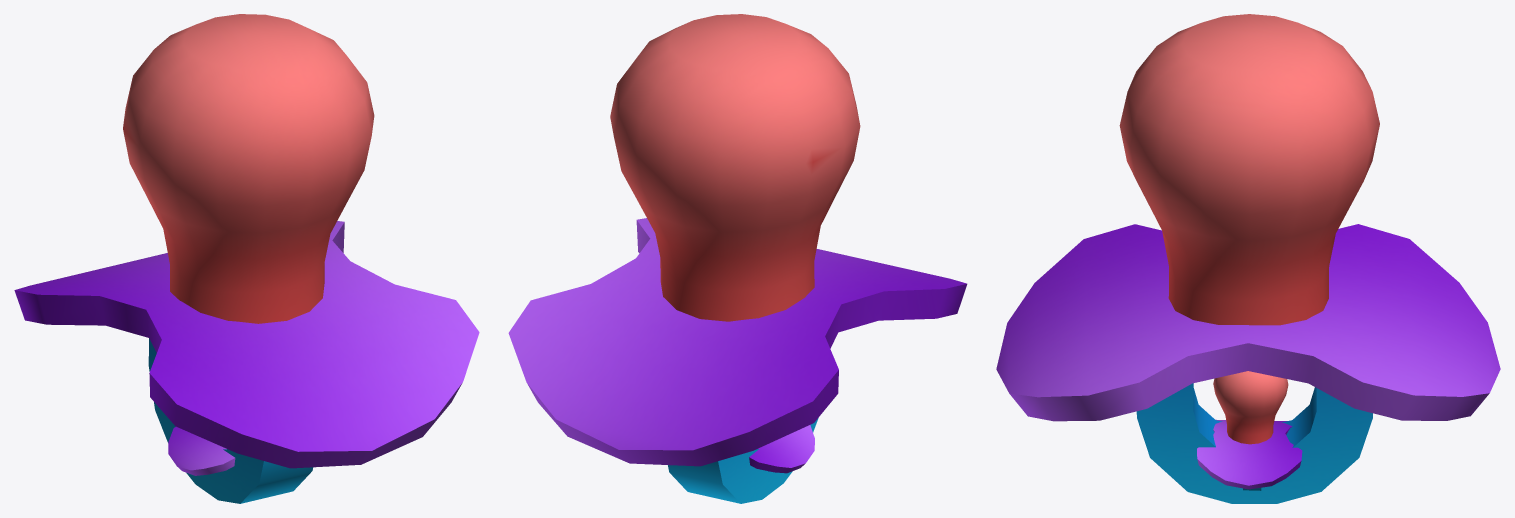
The model's file is baby_boss_cevre_modelleri_emzik1.fbx.
3 renders of one model, left to right at view 1: azimuth 30°, elevation 25°; view 2: azimuth 150°, elevation 25°; view 3: azimuth 270°, elevation 25°, orthographic. The views are drawn at different scales.
Visible parts, largest first — view 1: baby_boss_emzik_ikon, baby_boss_emzik_agiza; view 2: baby_boss_emzik_ikon, baby_boss_emzik_agiza; view 3: baby_boss_emzik_ikon, baby_boss_emzik_agiza.
Boxes of the visible parts, <box> form: baby_boss_emzik_ikon: <box>14,14,479,503</box>; baby_boss_emzik_agiza: <box>168,426,235,475</box>; baby_boss_emzik_ikon: <box>508,14,967,503</box>; baby_boss_emzik_agiza: <box>749,425,814,473</box>; baby_boss_emzik_ikon: <box>996,14,1500,503</box>; baby_boss_emzik_agiza: <box>1197,371,1302,490</box>.
Bounding box in the file's own units: 0.3643 × 0.5035 × 0.4993.
